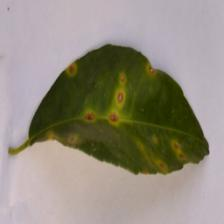canker: (51, 47, 186, 170)
